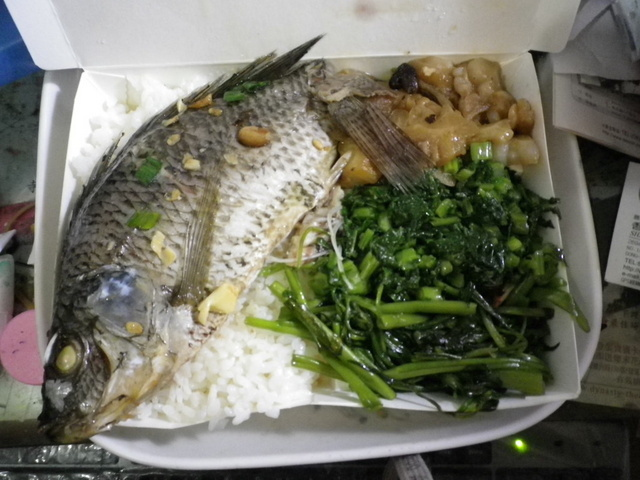rice: (197, 341, 288, 404)
water_spinach: (319, 306, 556, 393)
